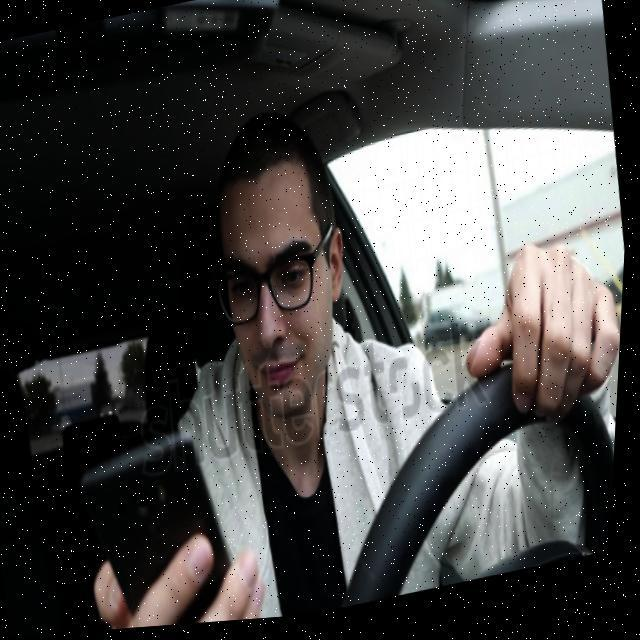PhoneCall: (72, 421, 254, 634)
